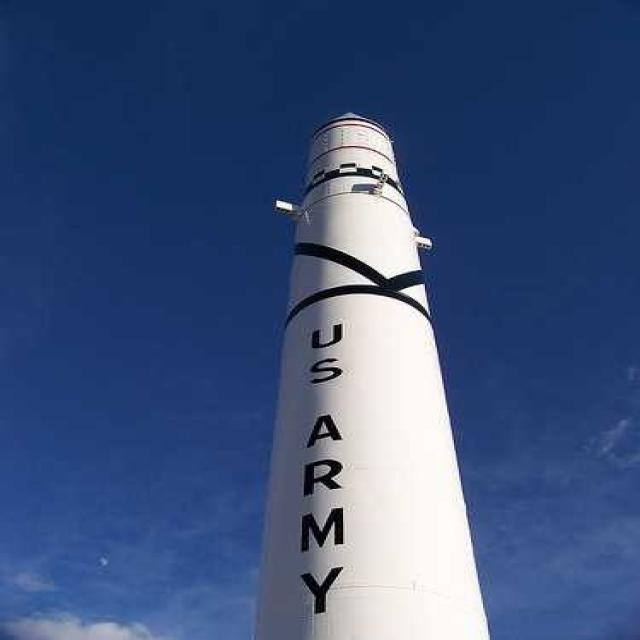missile: (263, 106, 488, 640)
